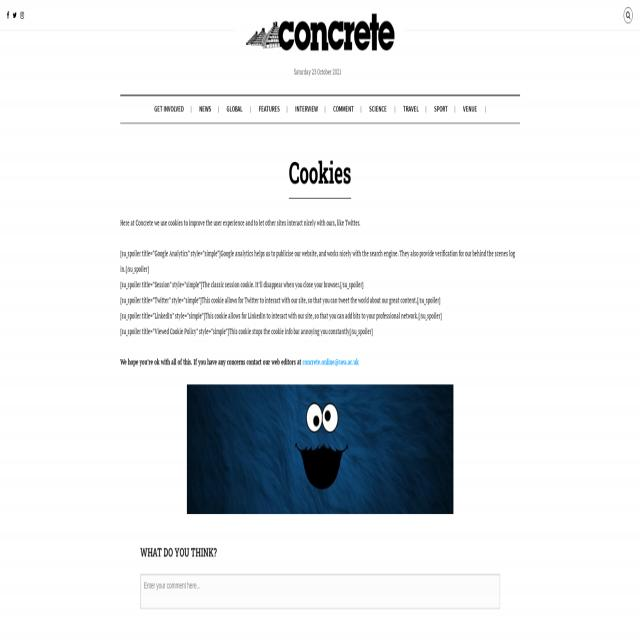button: (187, 384, 453, 514), (245, 7, 395, 54), (624, 8, 632, 24), (13, 10, 17, 20), (20, 10, 24, 20), (6, 10, 10, 20)
field: (140, 575, 500, 609)
